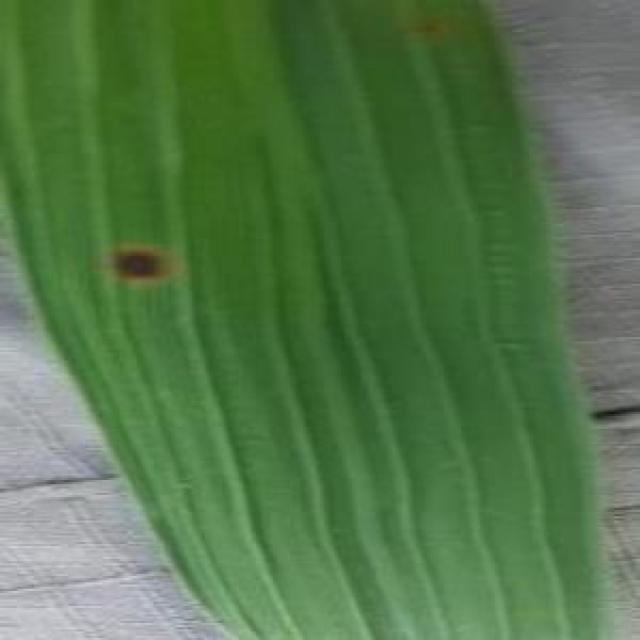Brown_Spot: (109, 244, 178, 286)
